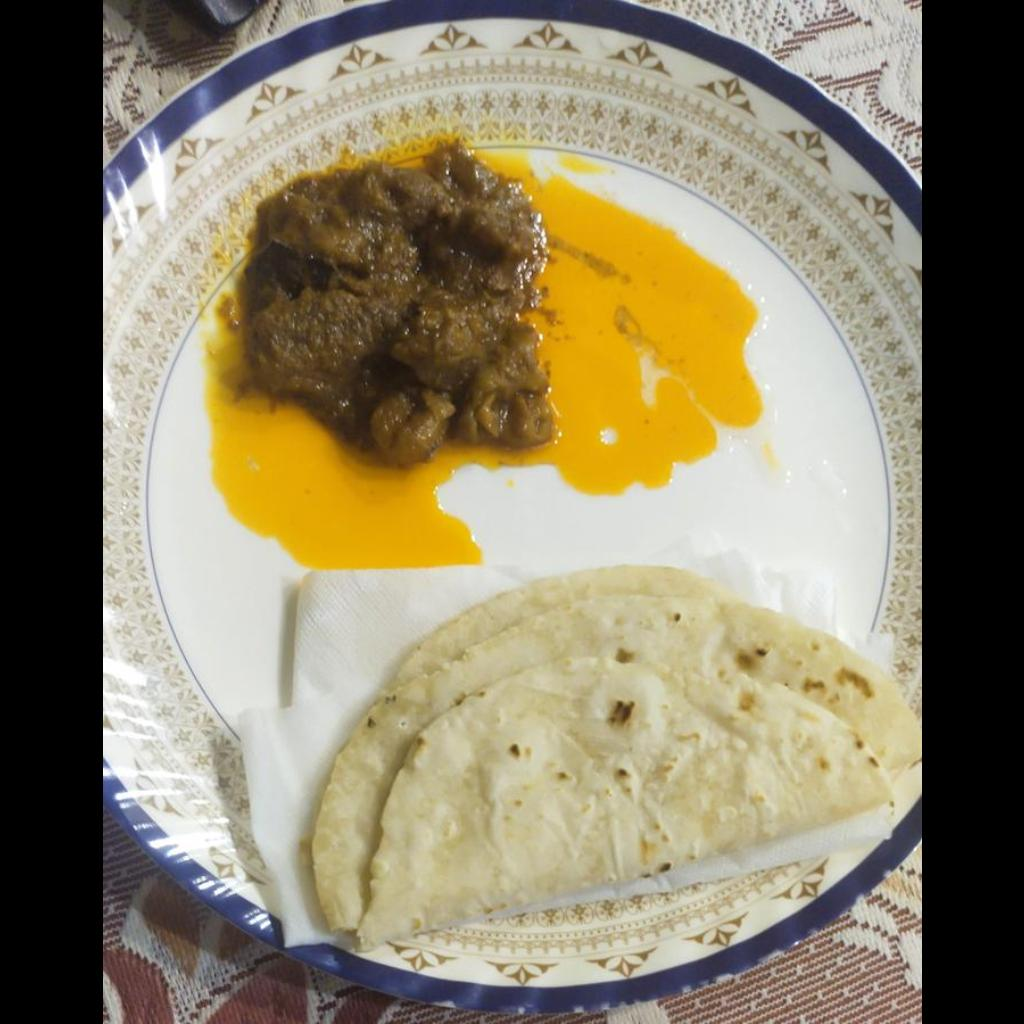beef: (250, 145, 560, 460)
ruti: (307, 569, 920, 947)
